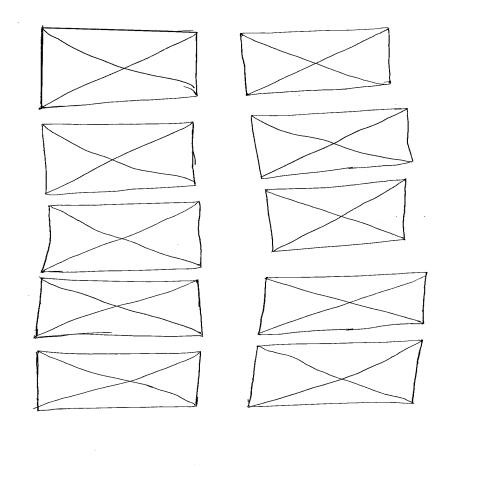Image: (39, 26, 201, 110), (247, 339, 424, 409), (250, 108, 414, 182), (40, 202, 204, 275), (42, 122, 197, 197), (258, 272, 428, 337), (264, 179, 409, 254), (32, 277, 204, 340), (240, 27, 392, 97), (37, 351, 203, 412)
